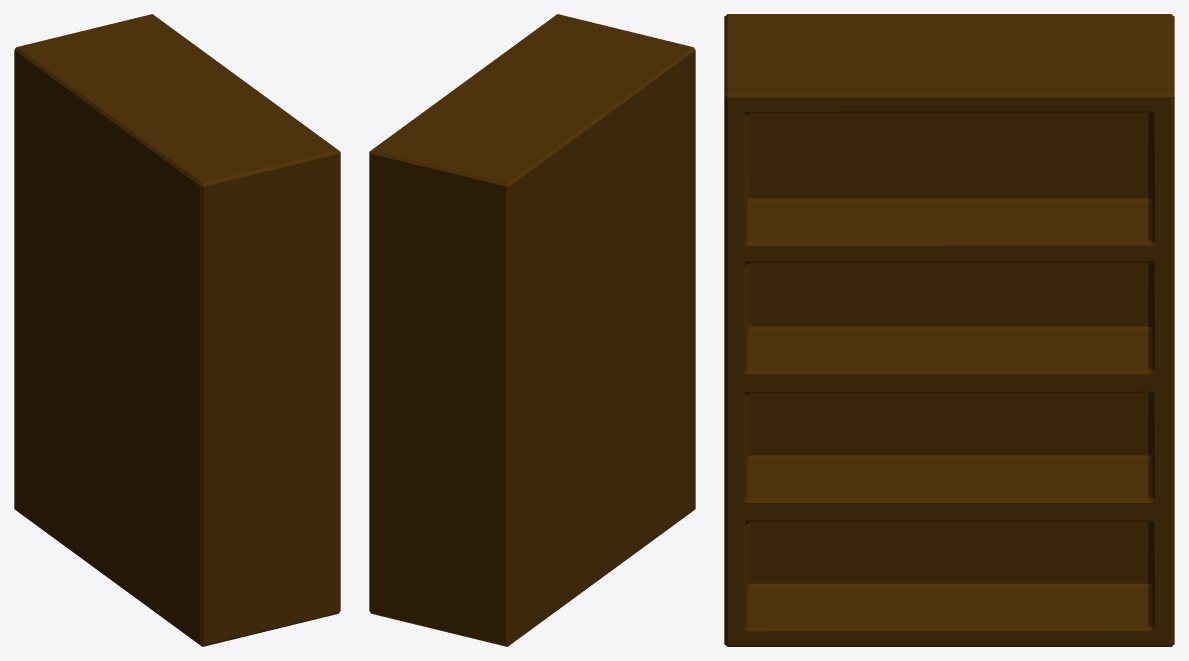
Rendered from Bookshelf.fbx.
3 renders of one model, left to right at view 1: azimuth 30°, elevation 25°; view 2: azimuth 150°, elevation 25°; view 3: azimuth 270°, elevation 25°, orthographic. The views are drawn at different scales.
Visible parts, largest first — view 1: pCube1; view 2: pCube1; view 3: pCube1.
Part boxes in pixels (x1,y1,x2,y2): pCube1: (14,14,340,646); pCube1: (369,14,695,646); pCube1: (724,14,1174,646).
Bounding box in the file's own units: 0.716 × 2.26 × 1.66.
